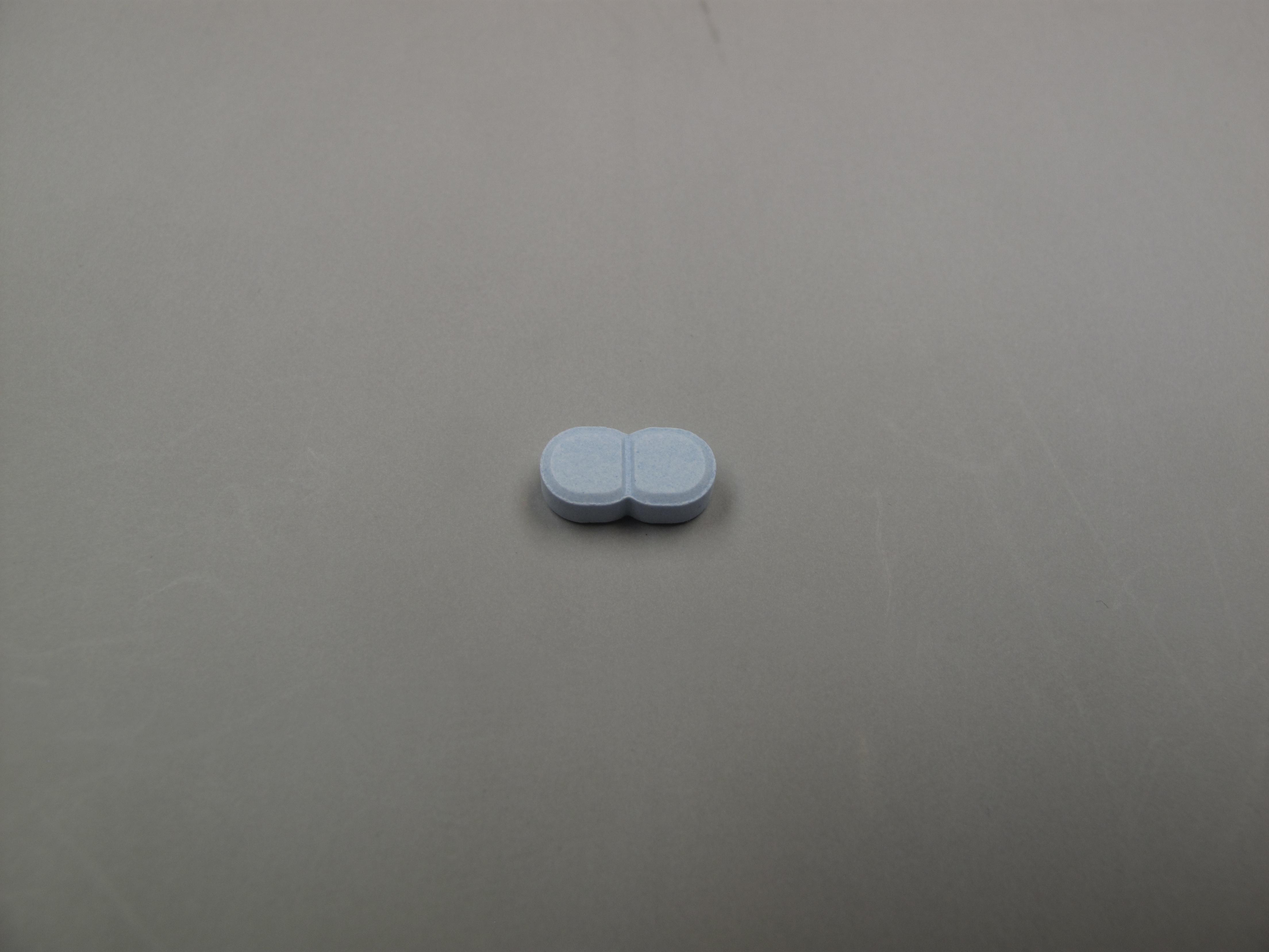Pill: (524, 415, 727, 545)
